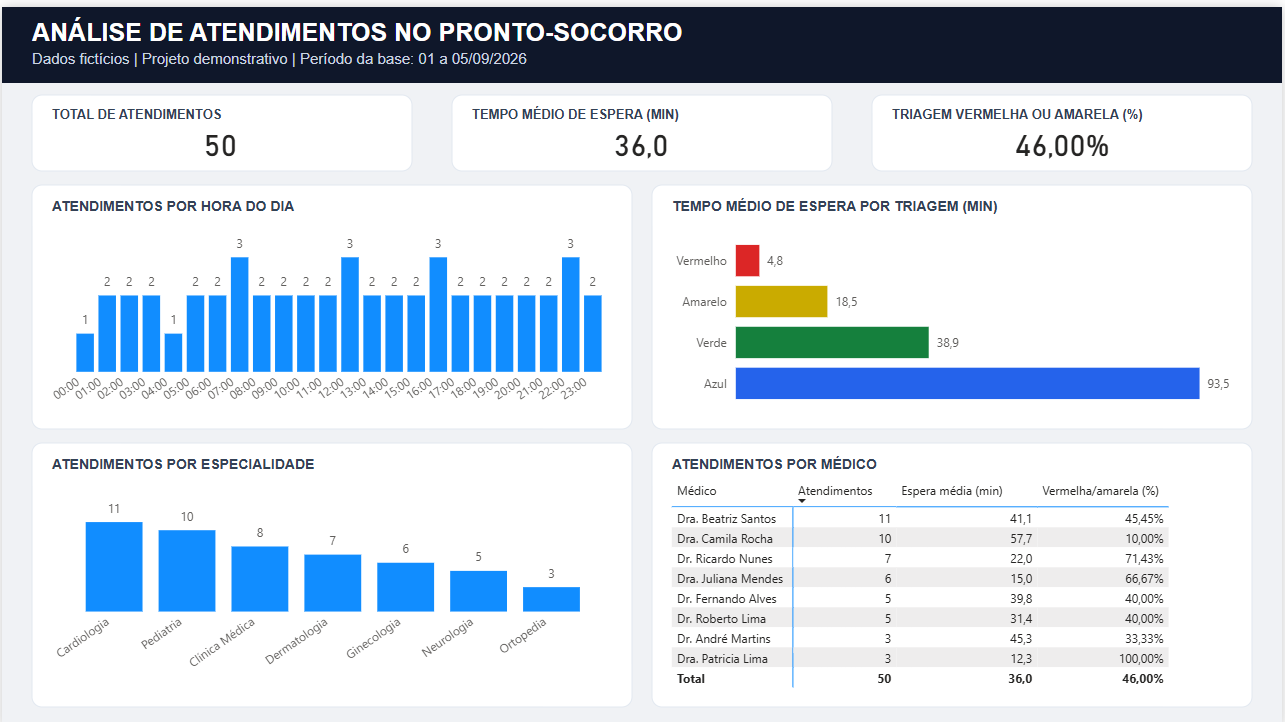

This screenshot's page, from the dashboard's own definition file:
{"tool":"powerbi","page":{"name":"Visão geral","canvas":[1280,720],"ordinal":0},"visuals":[{"type":"card","fields":{"Values":["_Medidas.Total Atendimentos"]},"box":[43.8,115,348.8,42.5],"z":0},{"type":"card","fields":{"Values":["_Medidas.Tempo Medio Espera"]},"box":[465,115,348.8,42.5],"z":1000},{"type":"card","fields":{"Values":["_Medidas.% Casos Criticos"]},"box":[886.2,115,348.8,42.5],"z":2000},{"type":"columnChart","fields":{"Category":["fatendimentos.Faixa_Hora"],"Y":["_Medidas.Total Atendimentos"]},"box":[43.8,212.5,570,202.5],"z":3000},{"type":"barChart","fields":{"Category":["fatendimentos.Cor_Triagem"],"Y":["_Medidas.Tempo Medio Espera"]},"box":[665,208.8,570,206.2],"z":4000},{"type":"clusteredColumnChart","fields":{"Category":["dmedicos.Especialidade"],"Y":["_Medidas.Total Atendimentos"]},"box":[43.8,468.8,570,215],"z":5000},{"type":"pivotTable","fields":{"Rows":["dmedicos.Nome_Medico"],"Values":["_Medidas.Total Atendimentos","_Medidas.Tempo Medio Espera","_Medidas.% Casos Criticos"]},"box":[665,467.5,570,227.5],"z":6000}]}

Visuals, with their boxes in screenshot pixels (x1, y1, x2, y2), scaled from the page's 1280x720 canvas onto the 1285x722 screenshot:
card - _Medidas.Total Atendimentos: [44,115,394,158]
card - _Medidas.Tempo Medio Espera: [467,115,817,158]
card - _Medidas.% Casos Criticos: [890,115,1240,158]
columnChart - fatendimentos.Faixa_Hora x _Medidas.Total Atendimentos: [44,213,616,416]
barChart - fatendimentos.Cor_Triagem x _Medidas.Tempo Medio Espera: [668,209,1240,416]
clusteredColumnChart - dmedicos.Especialidade x _Medidas.Total Atendimentos: [44,470,616,686]
pivotTable - dmedicos.Nome_Medico x _Medidas.Total Atendimentos: [668,469,1240,697]
